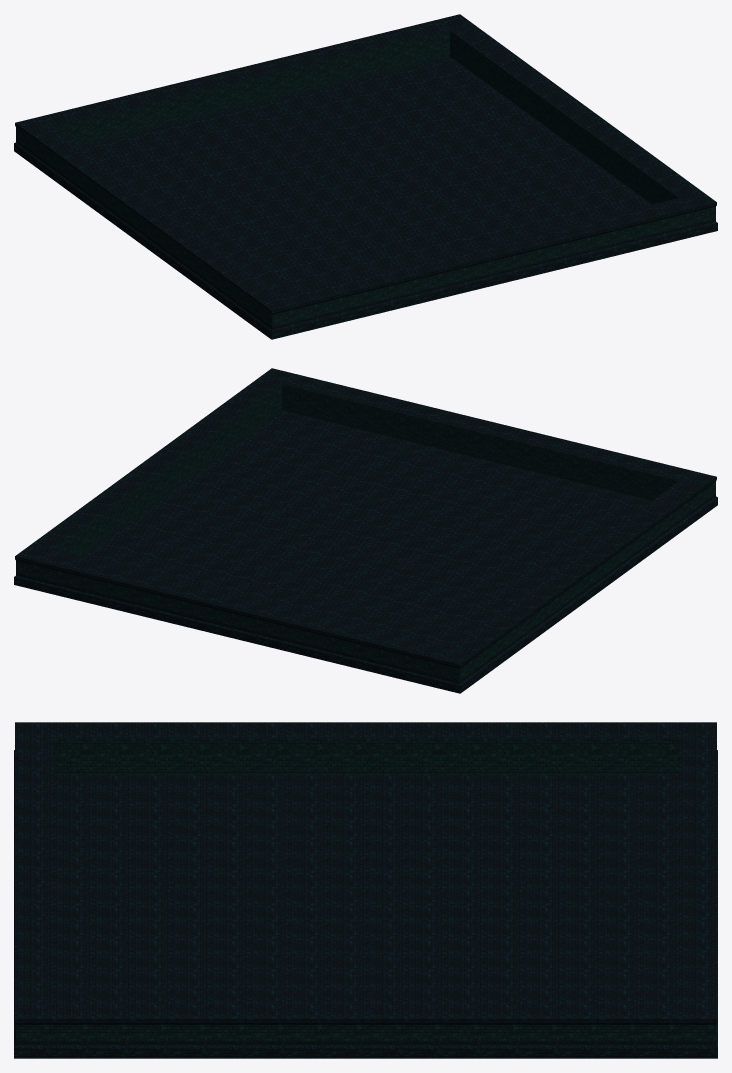
The model's file is board-alt.glb.
3 renders of one model, top to bottom at view 1: azimuth 30°, elevation 25°; view 2: azimuth 150°, elevation 25°; view 3: azimuth 270°, elevation 25°, orthographic. The views are drawn at different scales.
Parts seen in each view (by area): view 1: mergedBlocks(Clone); view 2: mergedBlocks(Clone); view 3: mergedBlocks(Clone).
Boxes of the visible parts, x1,y1,x2,y2 form: mergedBlocks(Clone): (14, 14, 717, 339); mergedBlocks(Clone): (14, 368, 717, 693); mergedBlocks(Clone): (14, 722, 717, 1058).
Bounding box in the file's own units: 18 × 1.1 × 18.
Materials: 2 (2 with a texture image).
